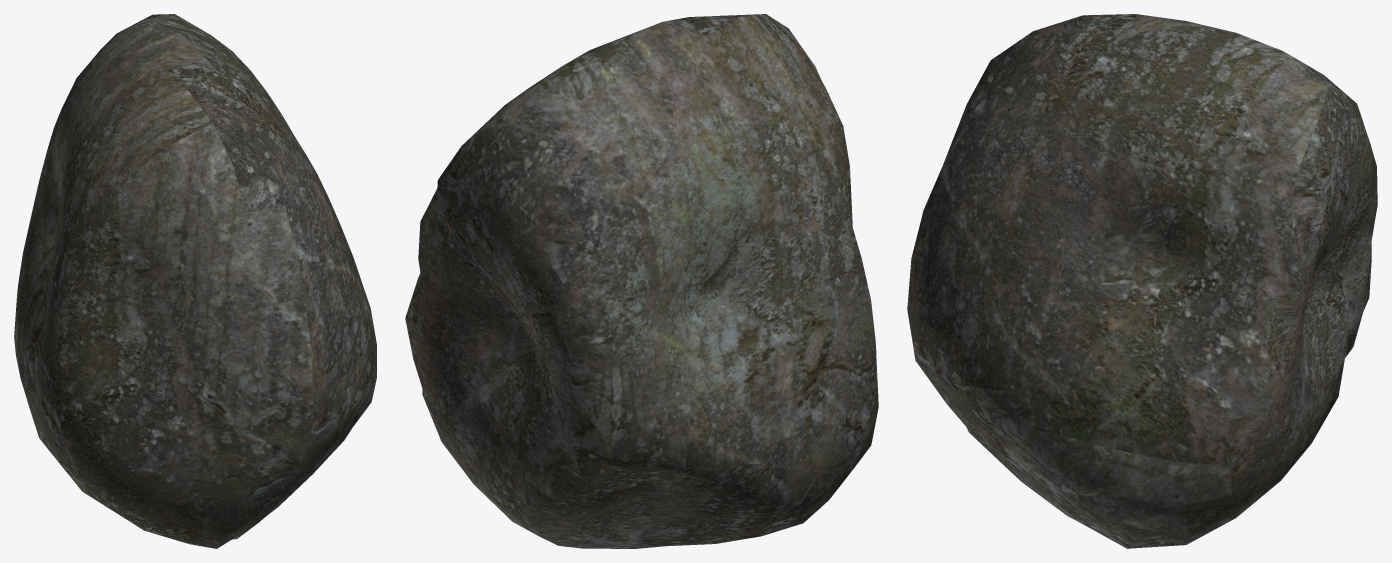
The model's file is rock1.fbx.
3 renders of one model, left to right at view 1: azimuth 30°, elevation 25°; view 2: azimuth 150°, elevation 25°; view 3: azimuth 270°, elevation 25°, orthographic. The views are drawn at different scales.
Parts seen in each view (by area): view 1: Cube.005; view 2: Cube.005; view 3: Cube.005.
Boxes of the visible parts, x1,y1,x2,y2 form: Cube.005: (14,14,376,548); Cube.005: (405,14,878,548); Cube.005: (907,14,1377,548).
Bounding box in the file's own units: 143 × 195 × 167.
